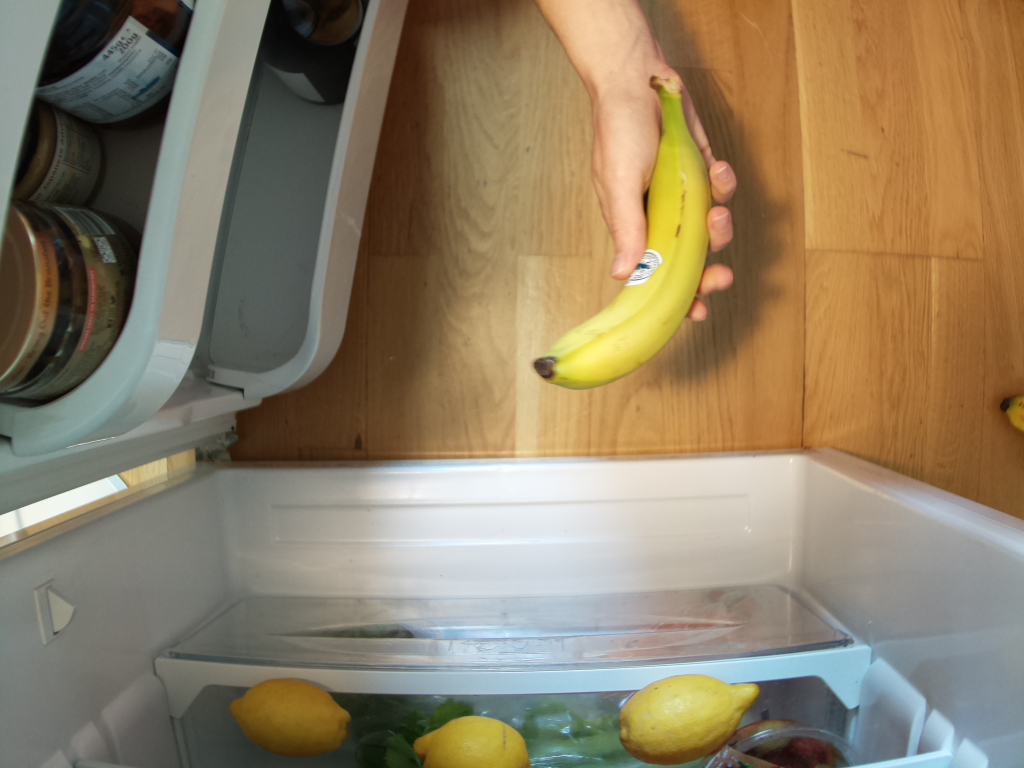banana-unripe: (533, 68, 708, 387)
